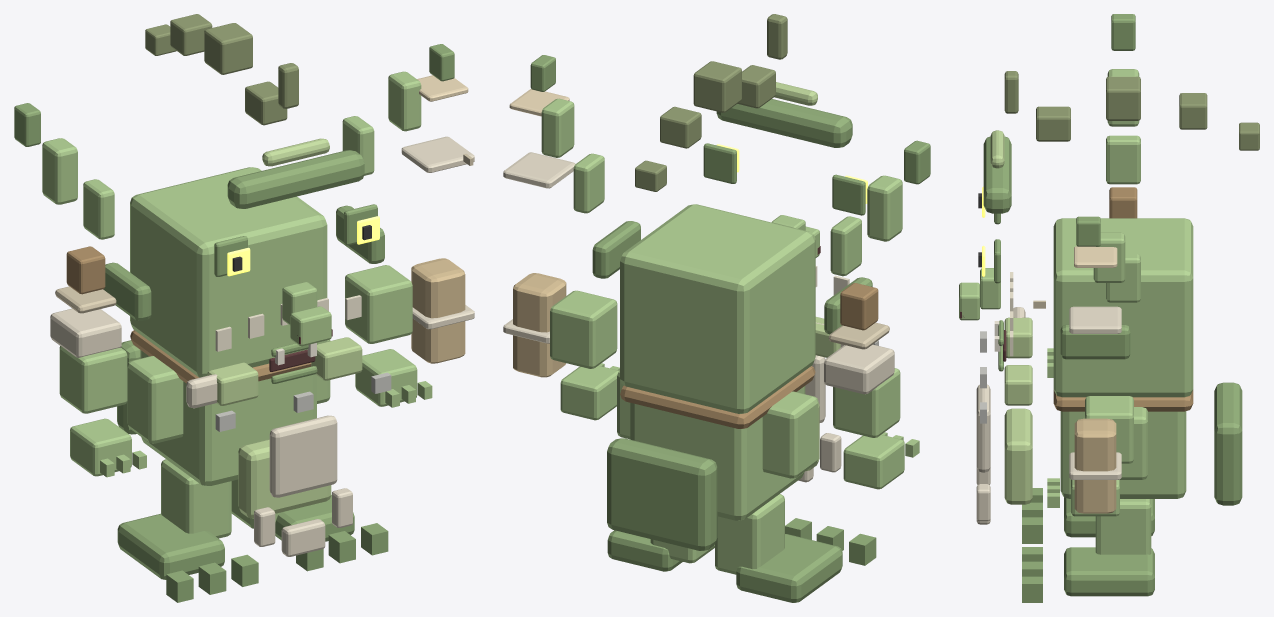
File: goblin.glb
3 renders of one model, left to right at view 1: azimuth 30°, elevation 25°; view 2: azimuth 150°, elevation 25°; view 3: azimuth 270°, elevation 25°, orthographic. The views are drawn at different scales.
Parts seen in each view (by area): view 1: Head, Body, Loincloth_F, Club_Body, Brow_Ridge, Foot_L, Arm_L, Forearm_R, Leg_L, Forearm_L, Belly, Wrap_Shoulder (+39 smaller); view 2: Head, Body_Shadow, Body, Forearm_R, Foot_L, Arm_L, Club_Body, Leg_L, Brow_Ridge, Forearm_L, Belt, Hand_L (+29 smaller); view 3: Head, Body, Foot_R, Club_Body, Body_Shadow, Leg_R, Belly, Cheek_R, Forearm_R, Brow_Ridge, Ear_L_Base, Mohawk_M (+26 smaller).
Boxes of the visible parts, x1,y1,x2,y2 form: Head: (130, 167, 327, 377); Body: (140, 350, 316, 486); Loincloth_F: (269, 415, 337, 497); Club_Body: (411, 258, 465, 363); Brow_Ridge: (227, 150, 364, 208); Foot_L: (117, 513, 224, 579); Arm_L: (127, 356, 183, 443); Forearm_R: (345, 265, 412, 343); Leg_L: (161, 459, 231, 538); Forearm_L: (59, 346, 127, 413); Belly: (238, 439, 331, 518); Wrap_Shoulder: (50, 308, 121, 357); Head: (620, 204, 815, 413); Body_Shadow: (607, 438, 717, 550); Body: (630, 386, 805, 520); Forearm_R: (550, 290, 617, 368); Foot_L: (736, 534, 842, 602); Arm_L: (762, 391, 818, 478); Club_Body: (513, 273, 566, 377); Leg_L: (715, 494, 784, 574); Brow_Ridge: (716, 99, 852, 147); Forearm_L: (833, 368, 900, 437); Belt: (620, 366, 815, 428); Hand_L: (843, 434, 904, 489); Head: (1053, 218, 1193, 397); Body: (1060, 411, 1186, 498); Foot_R: (1064, 547, 1154, 596); Club_Body: (1074, 418, 1116, 513); Body_Shadow: (1214, 382, 1242, 505); Leg_R: (1095, 499, 1151, 554); Belly: (1004, 408, 1032, 504); Cheek_R: (1060, 324, 1130, 359); Forearm_R: (1085, 396, 1133, 463); Brow_Ridge: (983, 136, 1011, 213); Ear_L_Base: (1106, 135, 1140, 184); Mohawk_M: (1106, 76, 1140, 120).
Size of the model in its own units: 1.32 by 1.52 by 0.86.
